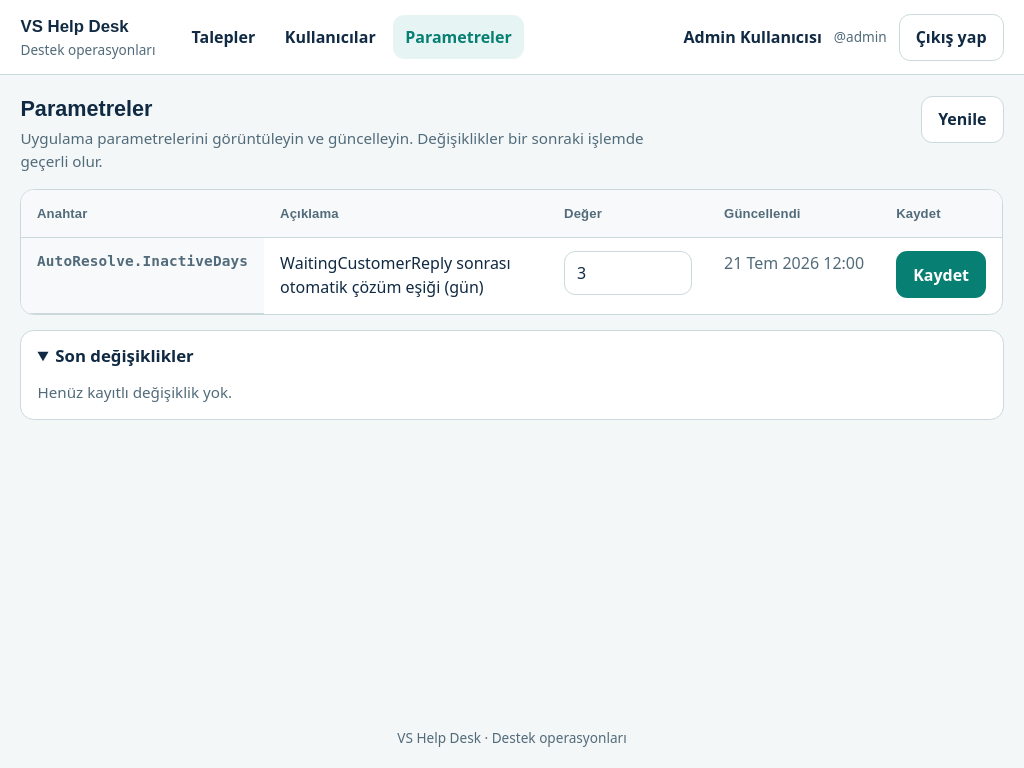
Test: ParametersPage › shows Turkish-friendly validation error from ApiError 400
Expected: the table is shown, top-left (22, 190), bottom-right (1003, 314)
Replace the text in the field named "AutoResolve.InactiveDays değeri" with "0" at (628, 273), box top-left (564, 251), bottom-right (692, 295)
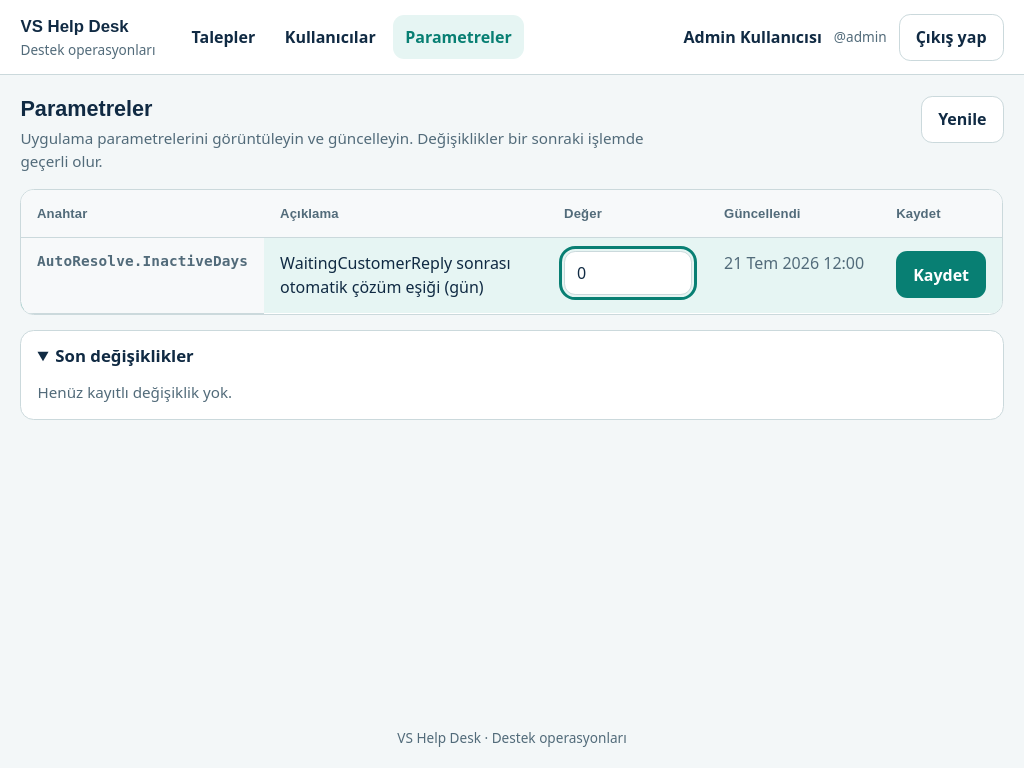
Click the button "Kaydet" at (942, 275), box top-left (897, 251), bottom-right (986, 298)
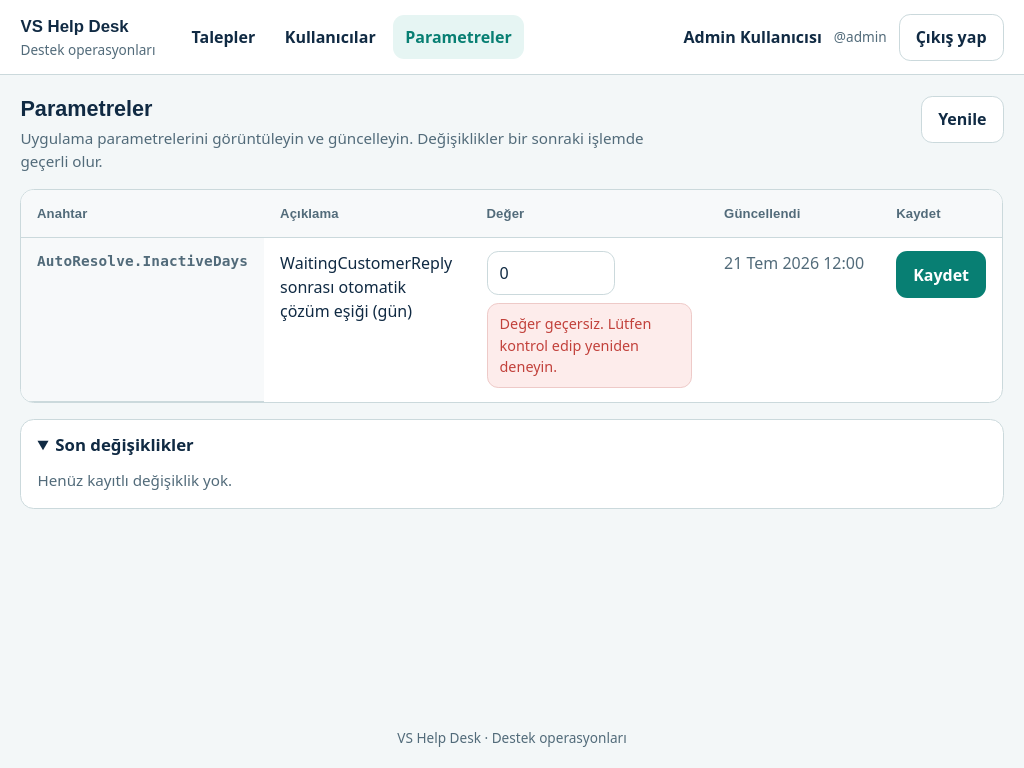
Expected: the message reads "Değer geçersiz. Lütfen kontrol edip yeniden deneyin.", top-left (500, 314), bottom-right (652, 376)
